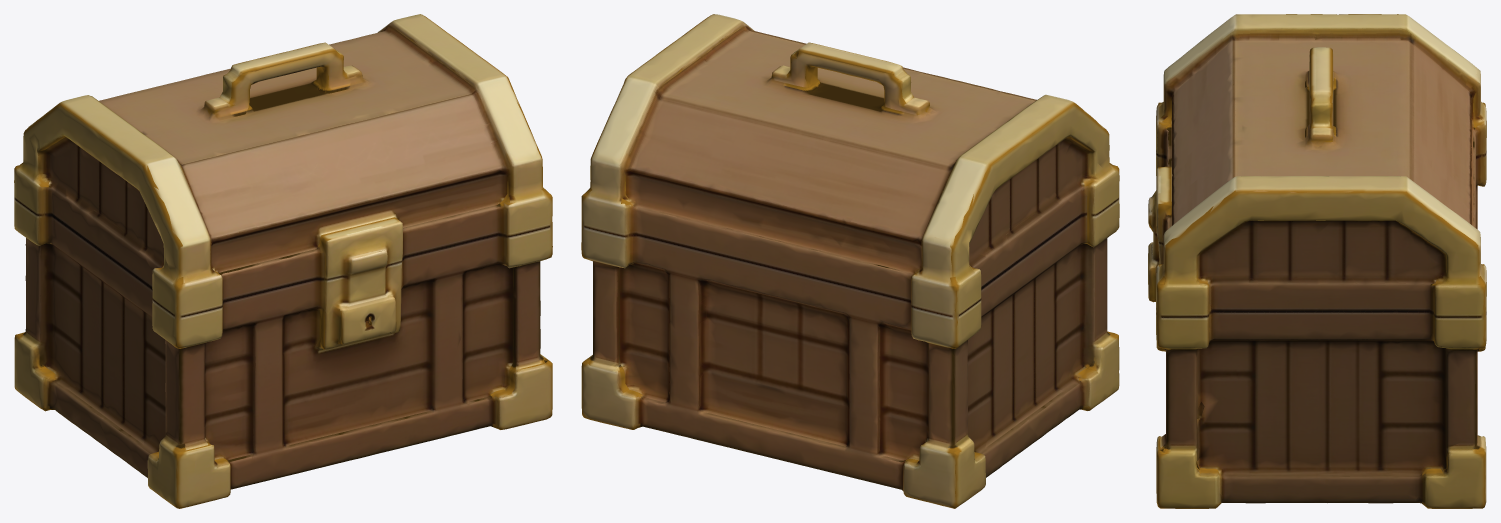
File: treasure_chest.fbx
The picture shows the model from 3 angles, left to right: view 1: azimuth 30°, elevation 25°; view 2: azimuth 150°, elevation 25°; view 3: azimuth 270°, elevation 25°; orthographic projection.
Parts seen in each view (by area): view 1: TreasureChest; view 2: TreasureChest; view 3: TreasureChest.
Boxes of the visible parts, x1,y1,x2,y2 form: TreasureChest: [14, 14, 552, 508]; TreasureChest: [581, 14, 1119, 508]; TreasureChest: [1148, 14, 1486, 508].
Size of the model in its own units: 45.35 by 40 by 35.17.
Materials: 1 (1 with a texture image).
